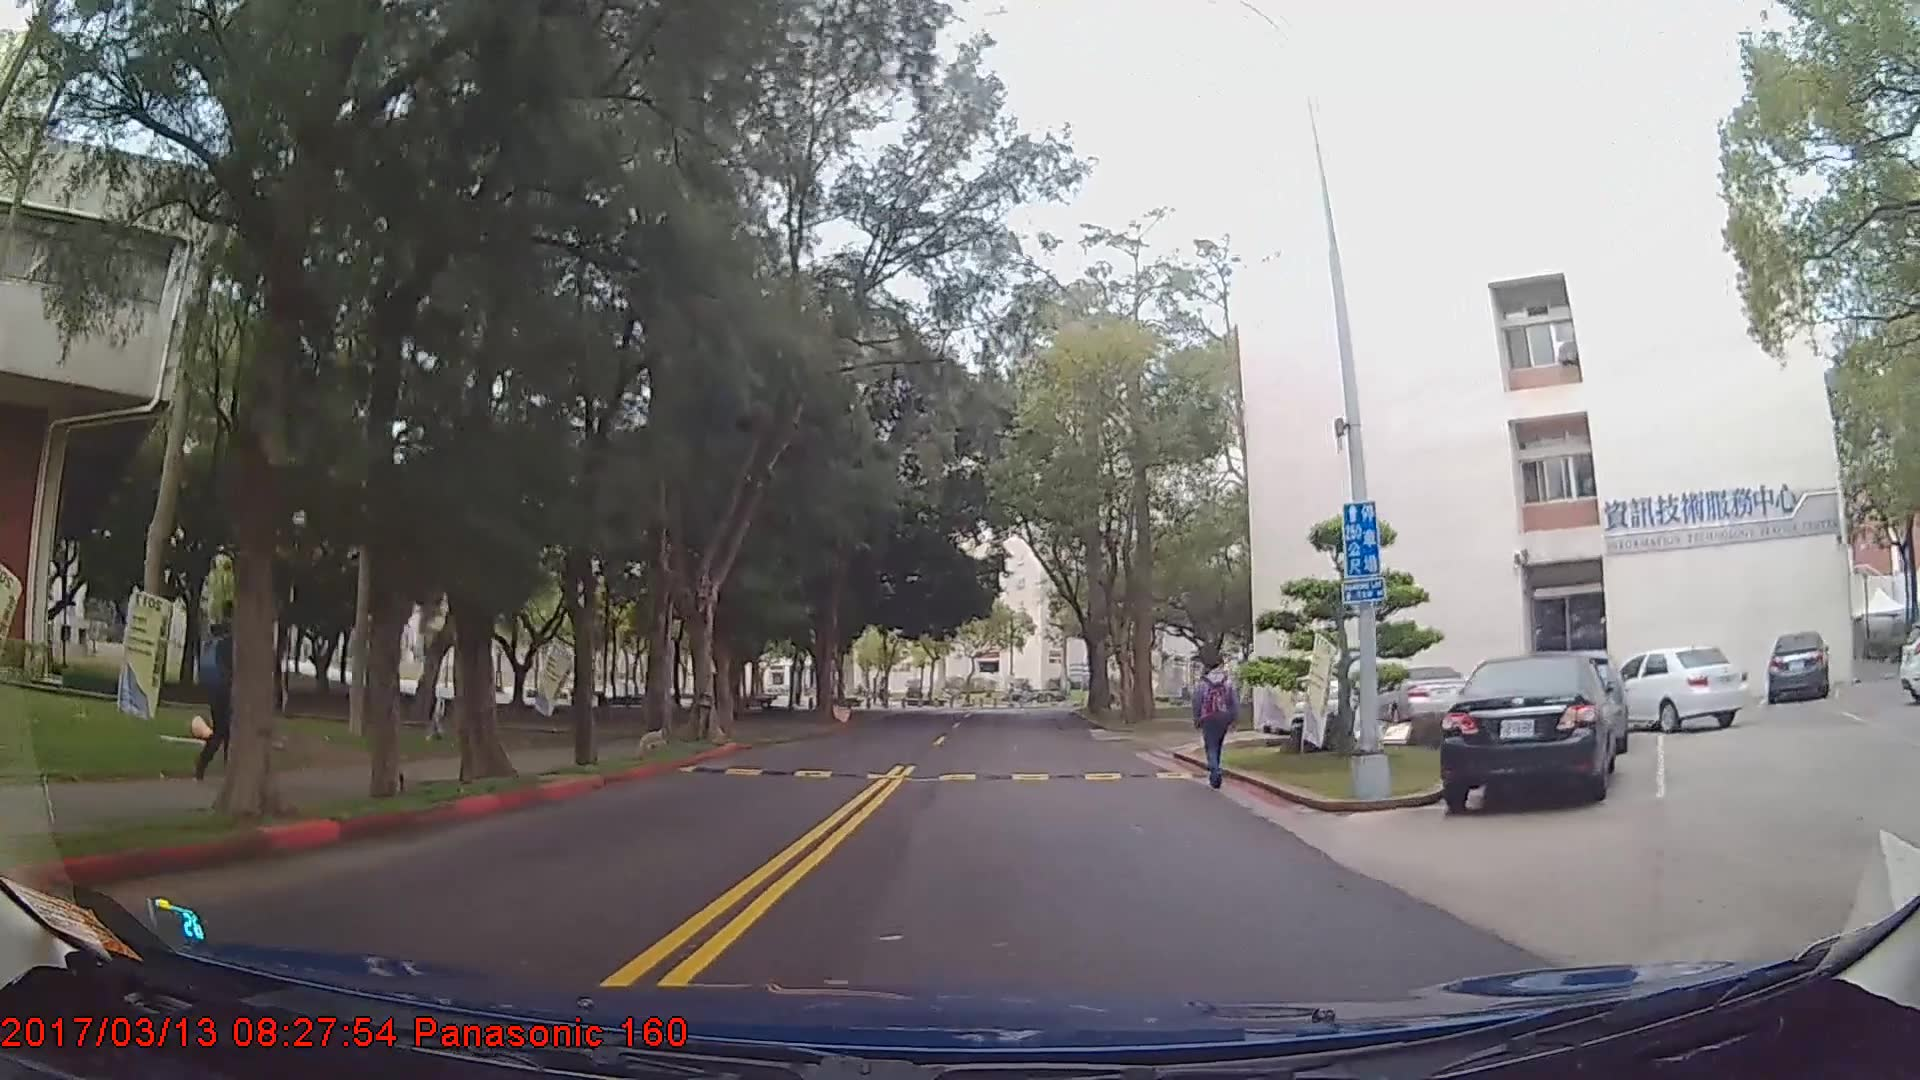pedestrian: (1186, 656, 1245, 793)
vehicle: (1442, 650, 1620, 816), (1609, 646, 1750, 733), (1363, 663, 1469, 727), (1766, 632, 1827, 707)
